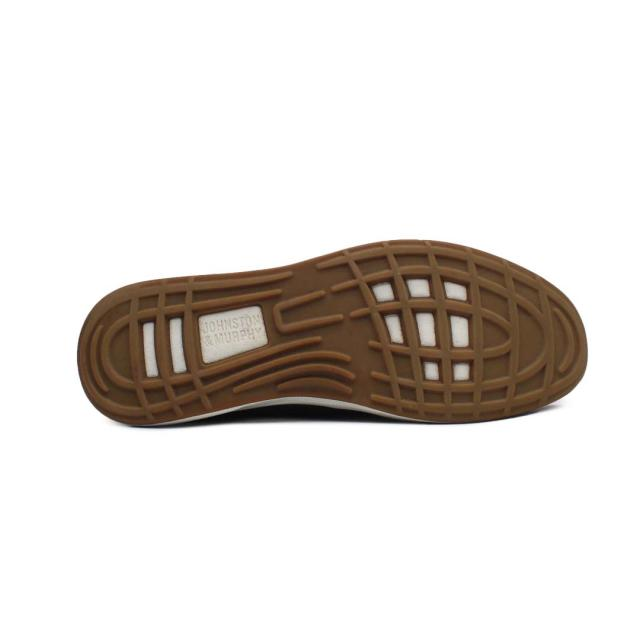outersole: (82, 240, 587, 427)
